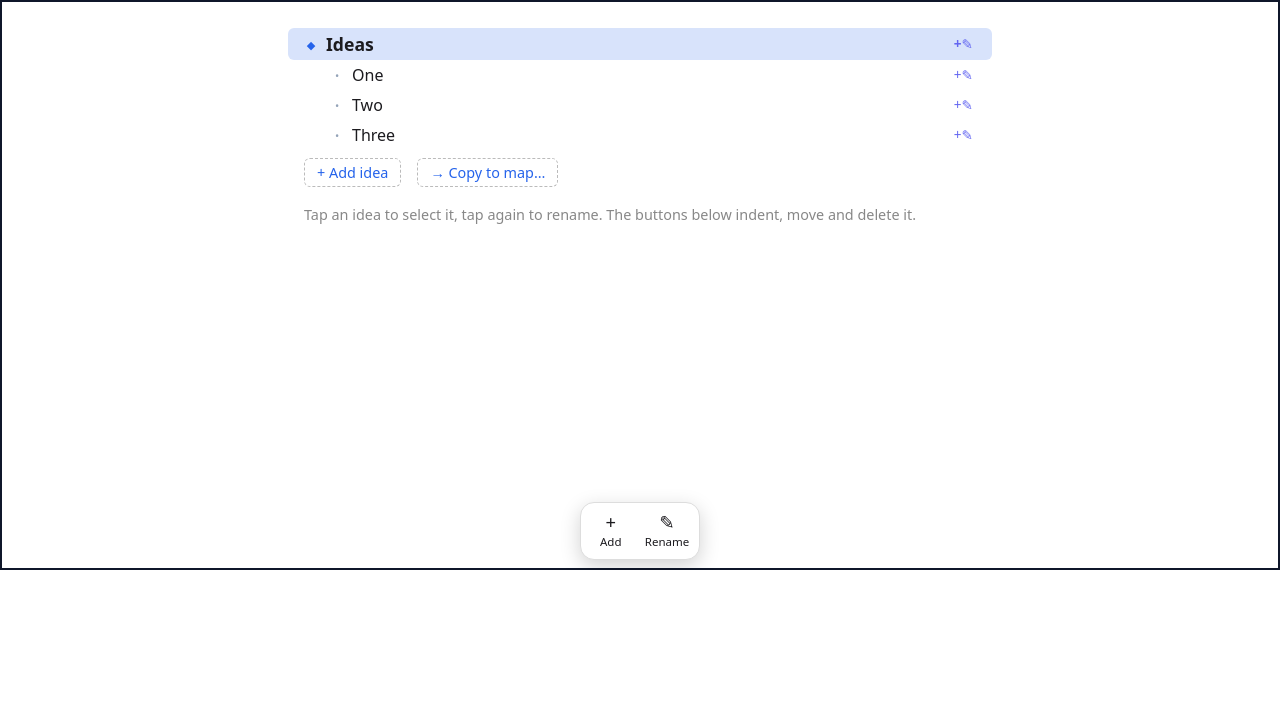
Test: Brainstorm on touch (#95) › first tap selects and shows the buttons; a second tap renames
Click the text "Two": (367, 105) [352,94,383,116]
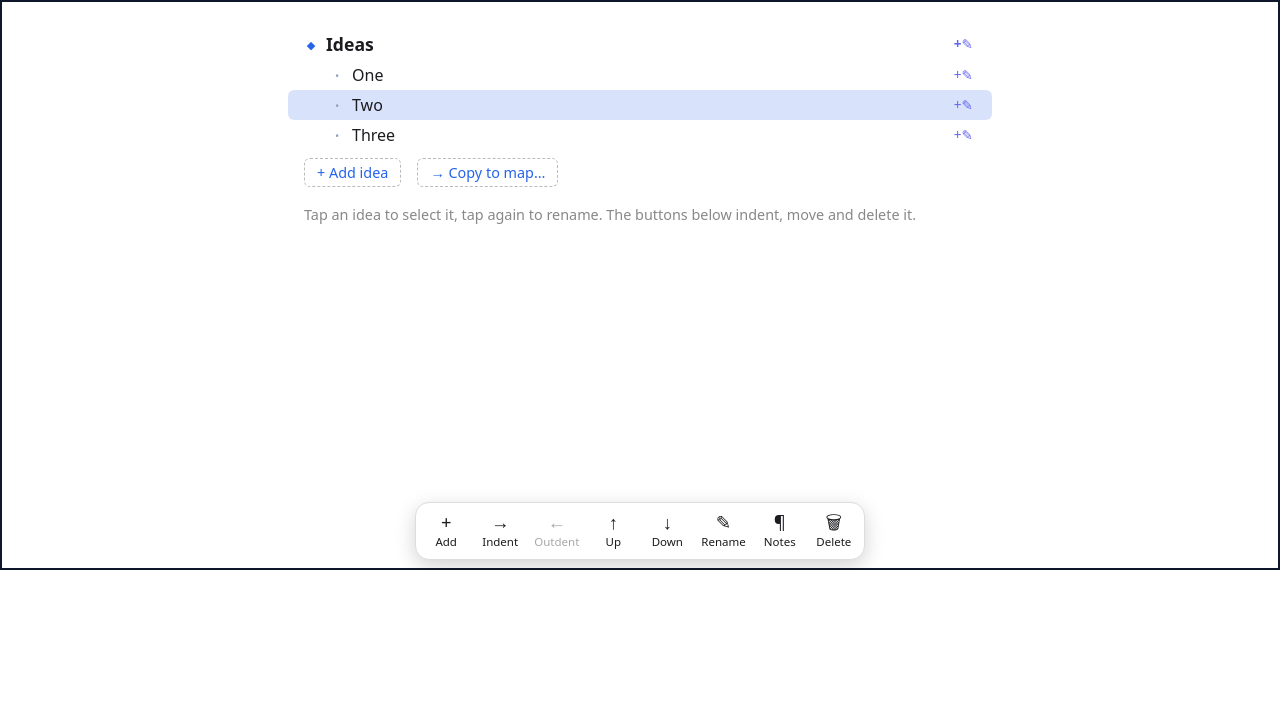
Expected: the element named "Idea actions" is shown, [415,502,865,560]
Click the text "Two": (367, 105) [352,94,383,116]
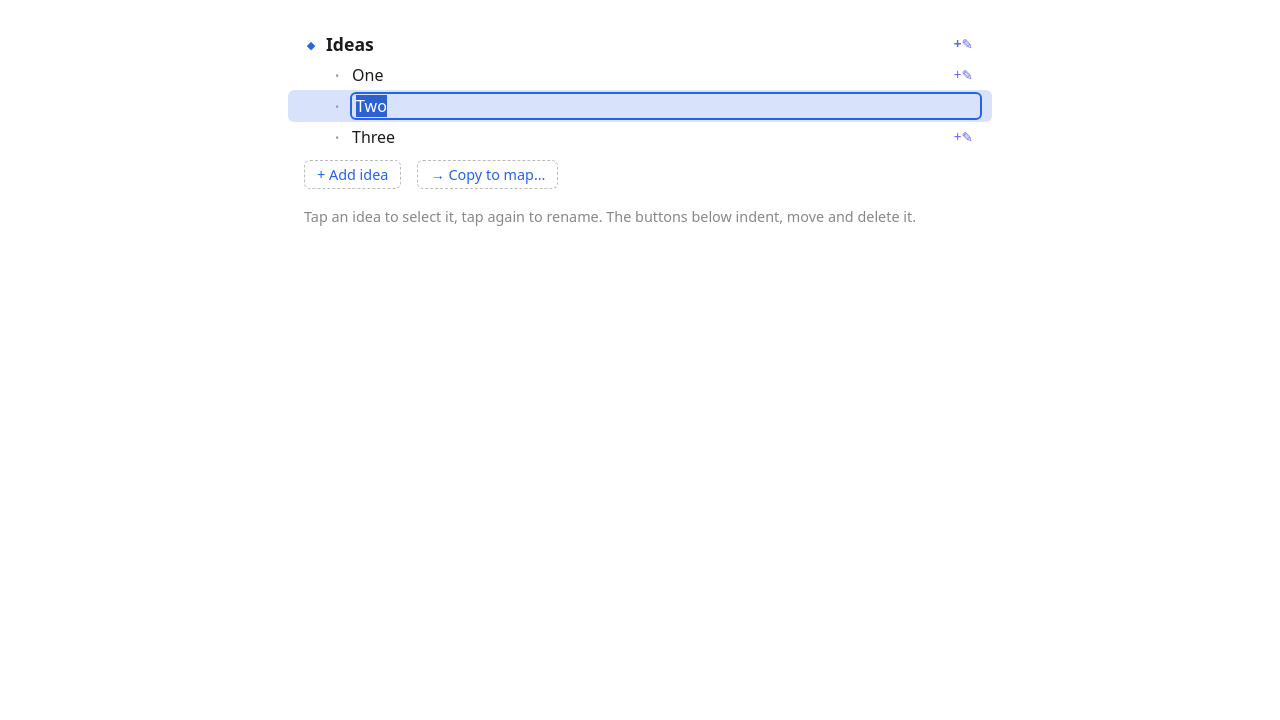
Now the element with test id "outliner-touch-bar" is gone
